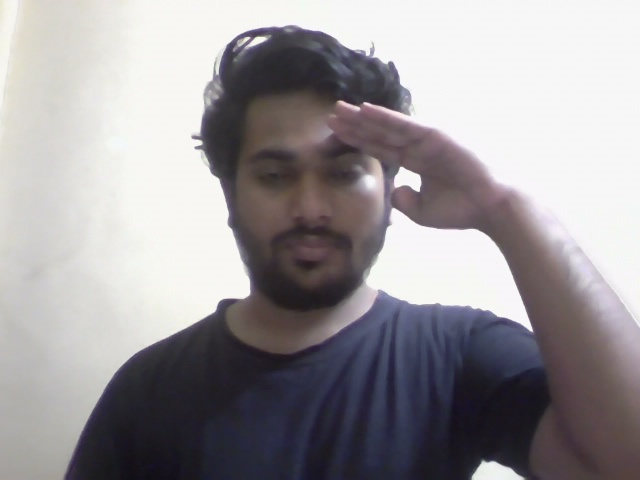hello: (177, 12, 517, 321)
